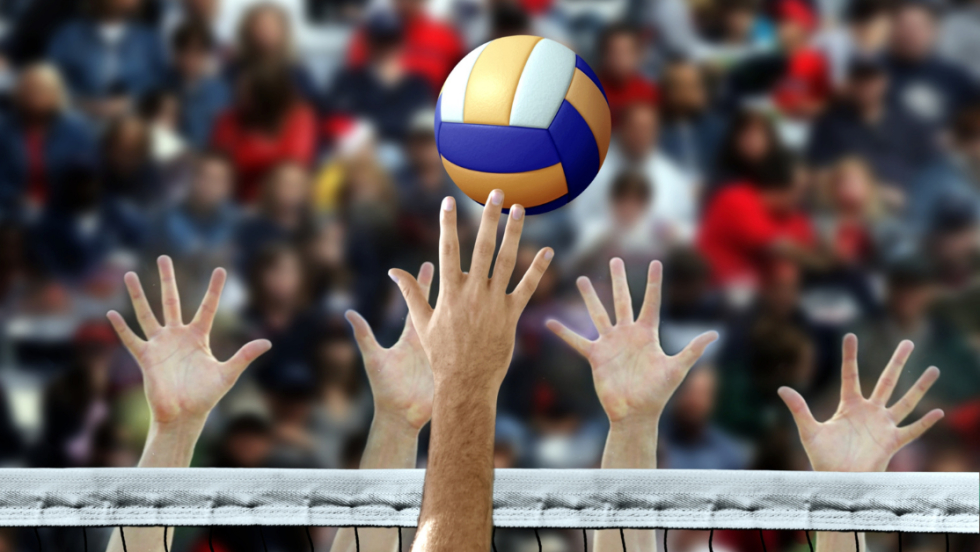ball: (434, 35, 613, 217)
